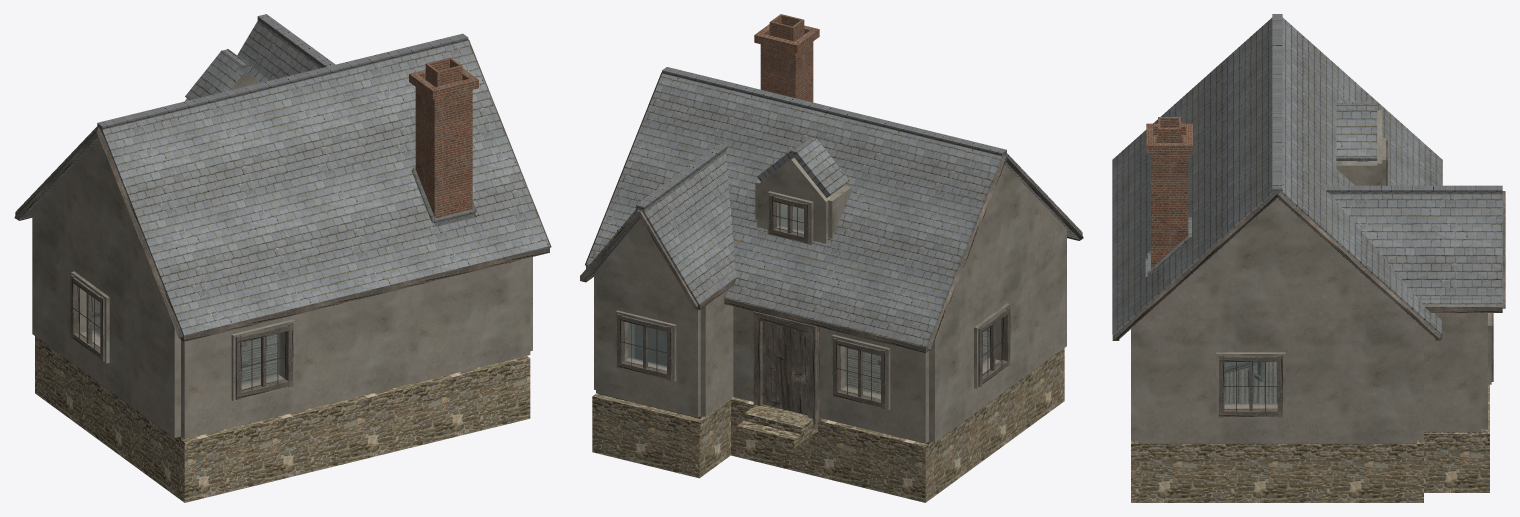
Rendered from functional-hall-house-v4-lod.glb.
The picture shows the model from 3 angles, left to right: view 1: azimuth 30°, elevation 25°; view 2: azimuth 150°, elevation 25°; view 3: azimuth 270°, elevation 25°; orthographic projection. The views are drawn at different scales.
Parts seen in each view (by area): view 1: LOD0/roof, LOD0/wall-exterior, LOD0/foundation, LOD0/structure-trim, LOD0/hearth-masonry, LOD0/mortar-reveal, LOD0/glazing, LOD0/floor-furnishing; view 2: LOD0/roof, LOD0/wall-exterior, LOD0/foundation, LOD0/structure-trim, LOD0/hearth-masonry, door/front, LOD0/mortar-reveal, LOD0/glazing, LOD0/floor-furnishing, LOD0/wall-interior, LOD0/door-hardware; view 3: LOD0/roof, LOD0/wall-exterior, LOD0/foundation, LOD0/structure-trim, LOD0/hearth-masonry, LOD0/floor-furnishing, LOD0/glazing, LOD0/mortar-reveal, LOD0/furniture-wood.
Part boxes in pixels (x1,y1,x2,y2): LOD0/roof: [15, 14, 549, 335]; LOD0/wall-exterior: [32, 72, 532, 438]; LOD0/foundation: [35, 336, 530, 502]; LOD0/structure-trim: [14, 39, 551, 399]; LOD0/hearth-masonry: [409, 57, 478, 226]; LOD0/mortar-reveal: [71, 271, 294, 401]; LOD0/glazing: [92, 297, 280, 384]; LOD0/floor-furnishing: [93, 323, 278, 439]; LOD0/roof: [580, 67, 1082, 347]; LOD0/wall-exterior: [594, 158, 1066, 443]; LOD0/foundation: [592, 348, 1064, 502]; LOD0/structure-trim: [580, 72, 1083, 424]; LOD0/hearth-masonry: [754, 14, 819, 102]; door/front: [762, 322, 808, 415]; LOD0/mortar-reveal: [615, 191, 1009, 410]; LOD0/glazing: [628, 203, 989, 395]; LOD0/floor-furnishing: [599, 331, 988, 444]; LOD0/wall-interior: [628, 197, 989, 394]; LOD0/door-hardware: [621, 203, 1007, 400]; LOD0/roof: [1112, 14, 1502, 339]; LOD0/wall-exterior: [1131, 110, 1487, 443]; LOD0/foundation: [1131, 384, 1489, 502]; LOD0/structure-trim: [1112, 140, 1505, 417]; LOD0/hearth-masonry: [1146, 117, 1192, 276]; LOD0/floor-furnishing: [1138, 362, 1481, 443]; LOD0/glazing: [1224, 362, 1277, 404]; LOD0/mortar-reveal: [1216, 137, 1491, 417]; LOD0/furniture-wood: [1224, 362, 1265, 387].
Bounding box in the file's own units: 10.34 × 9.44 × 9.66.
20 materials, 10 textured.
